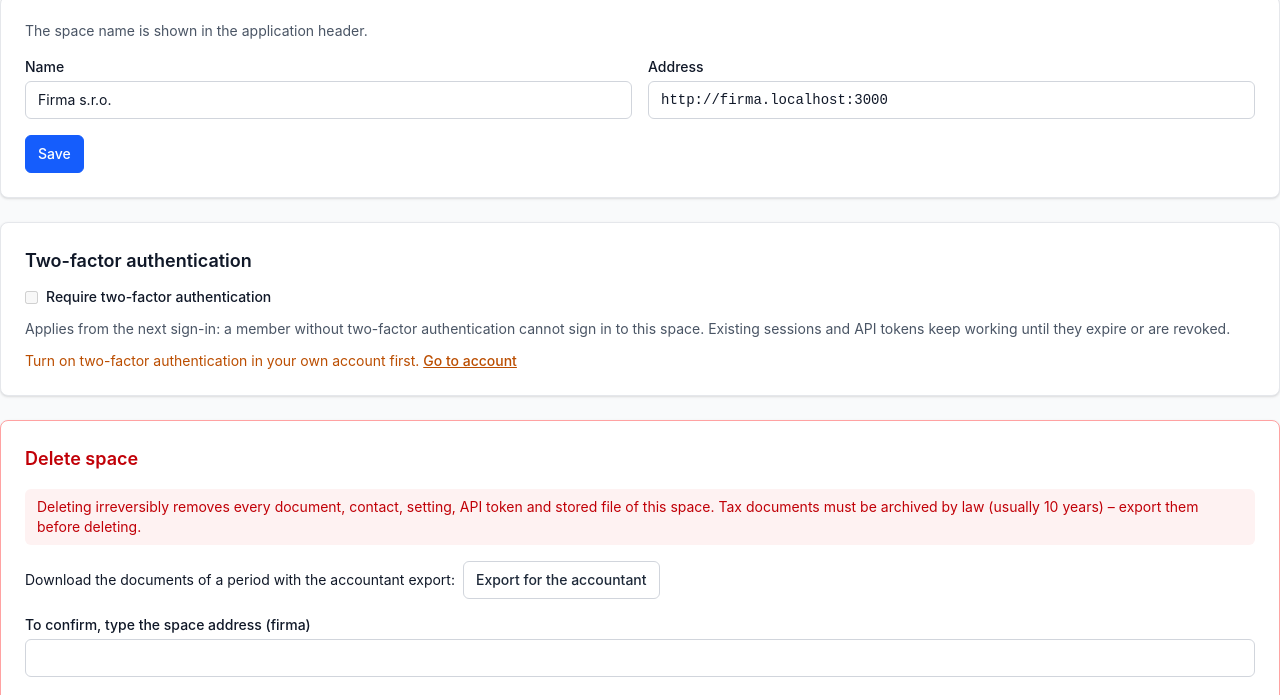
it: SpaceTab › explains a rate-limited delete
The image size is (1280, 695).
In the field with test id "delete-slug": [640, 658] box [25,639,1255,677], type "firma"
(page scrolled)
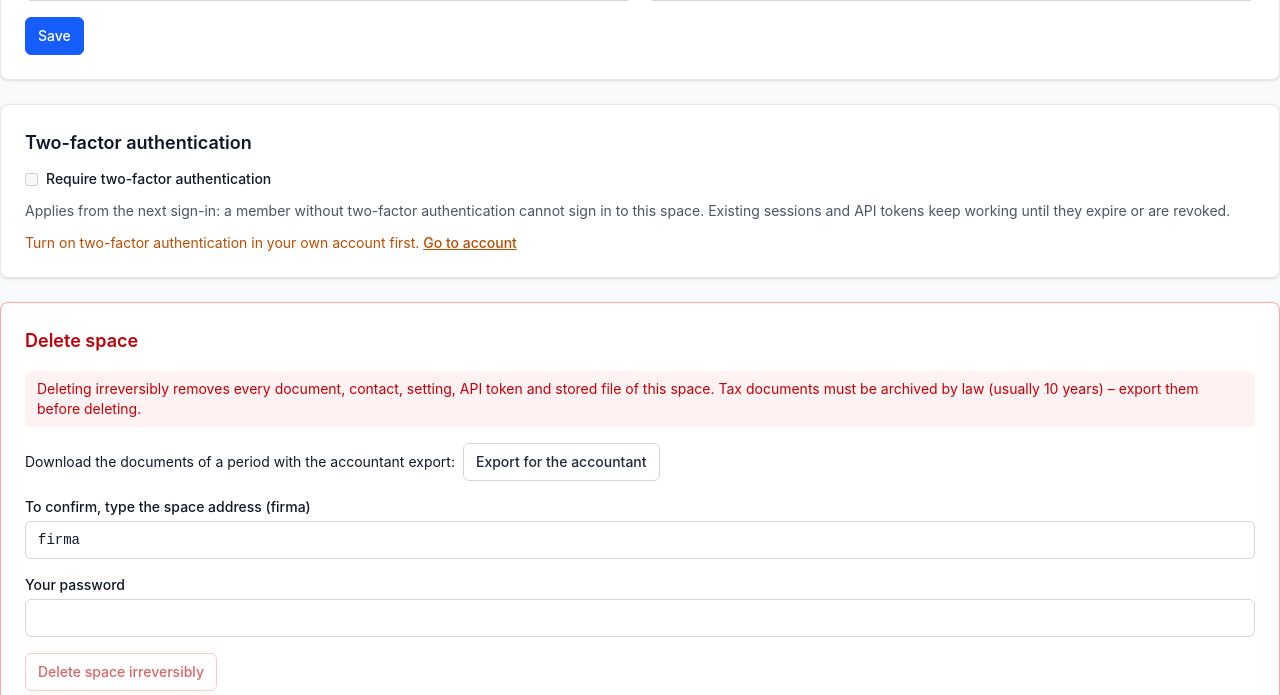
In the password field with test id "delete-password": [640, 618] box [25,599,1255,637], type "wrong"
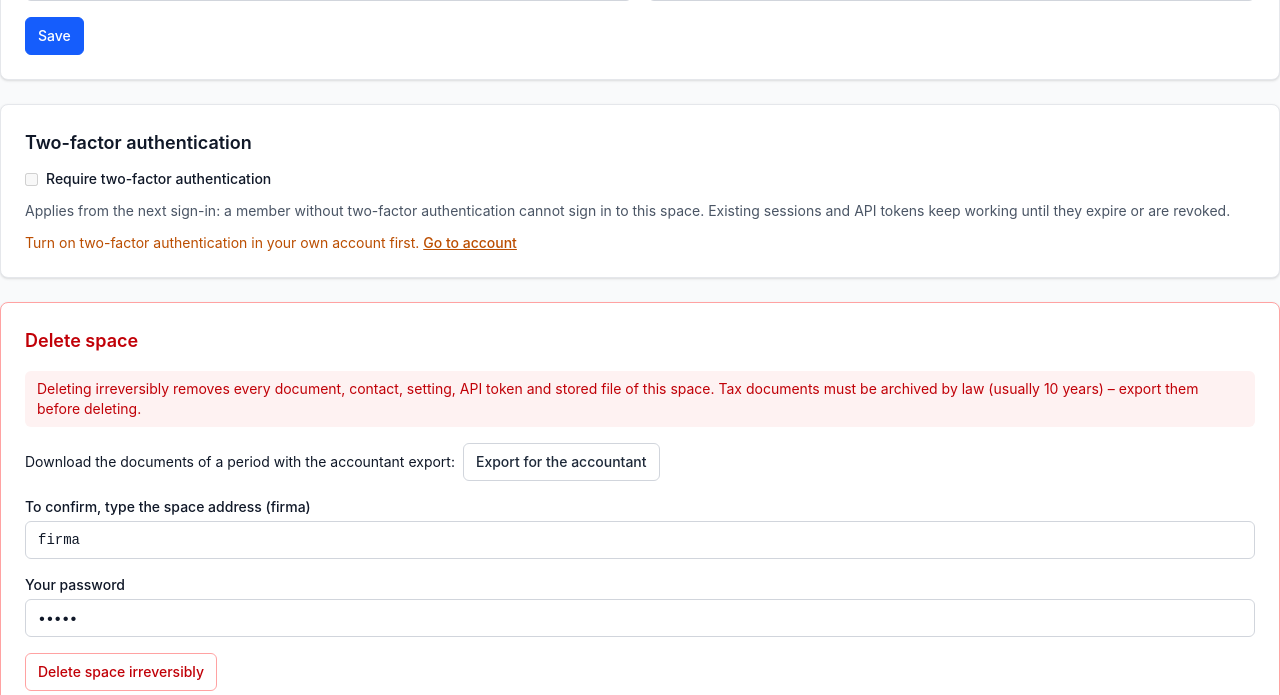
Submit the 2nd form, box [25,497,1255,691]
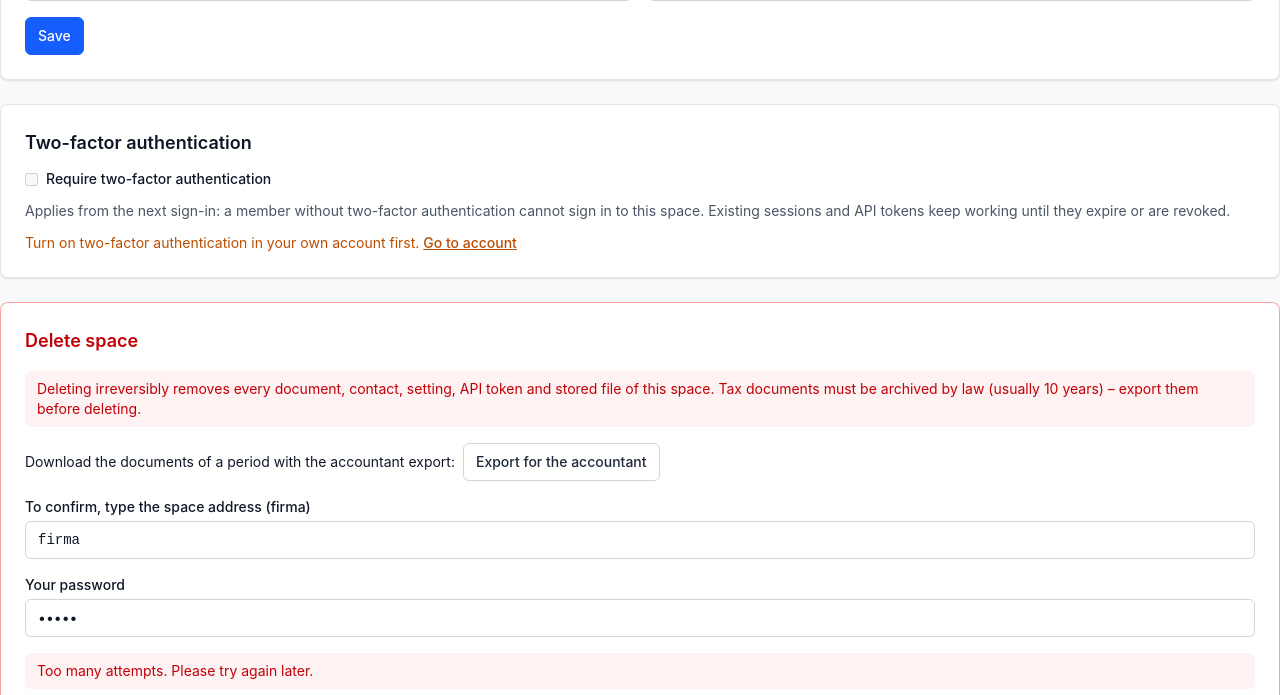
Expected: the message with test id "delete-error" reads "Too many attempts. Please try again later.", [37,662,313,679]
